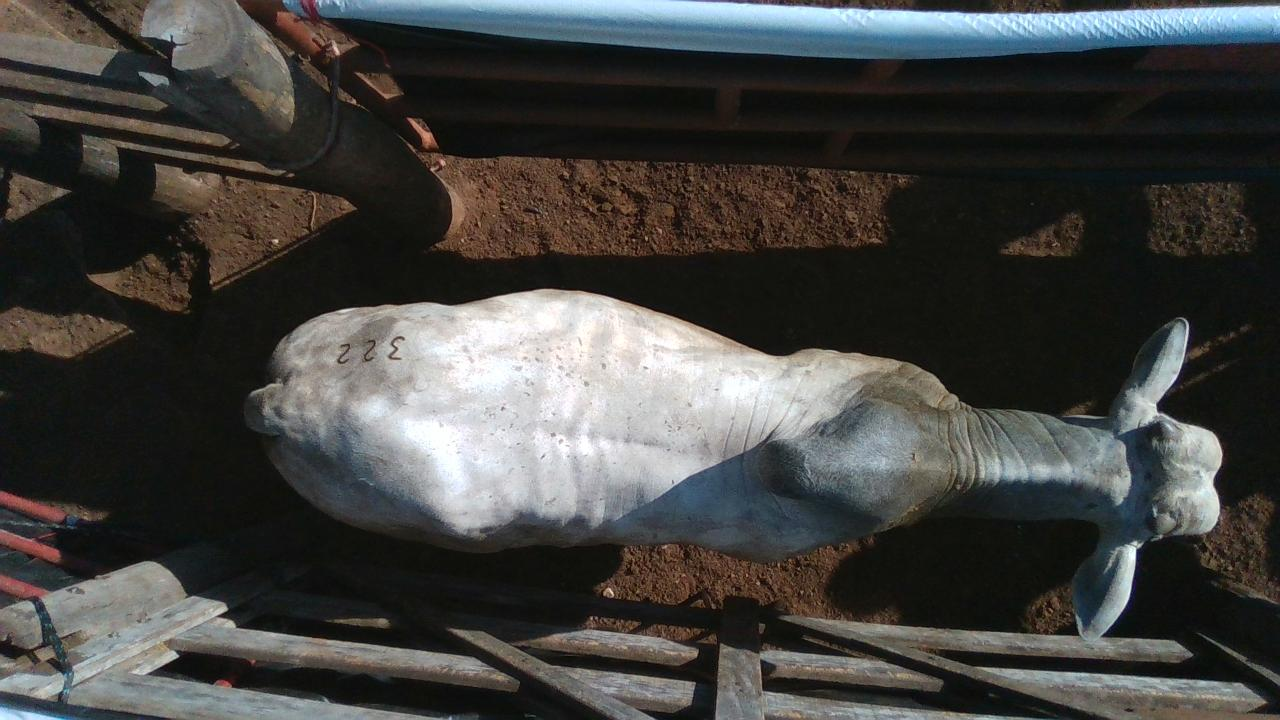cattle: (242, 285, 1224, 642)
